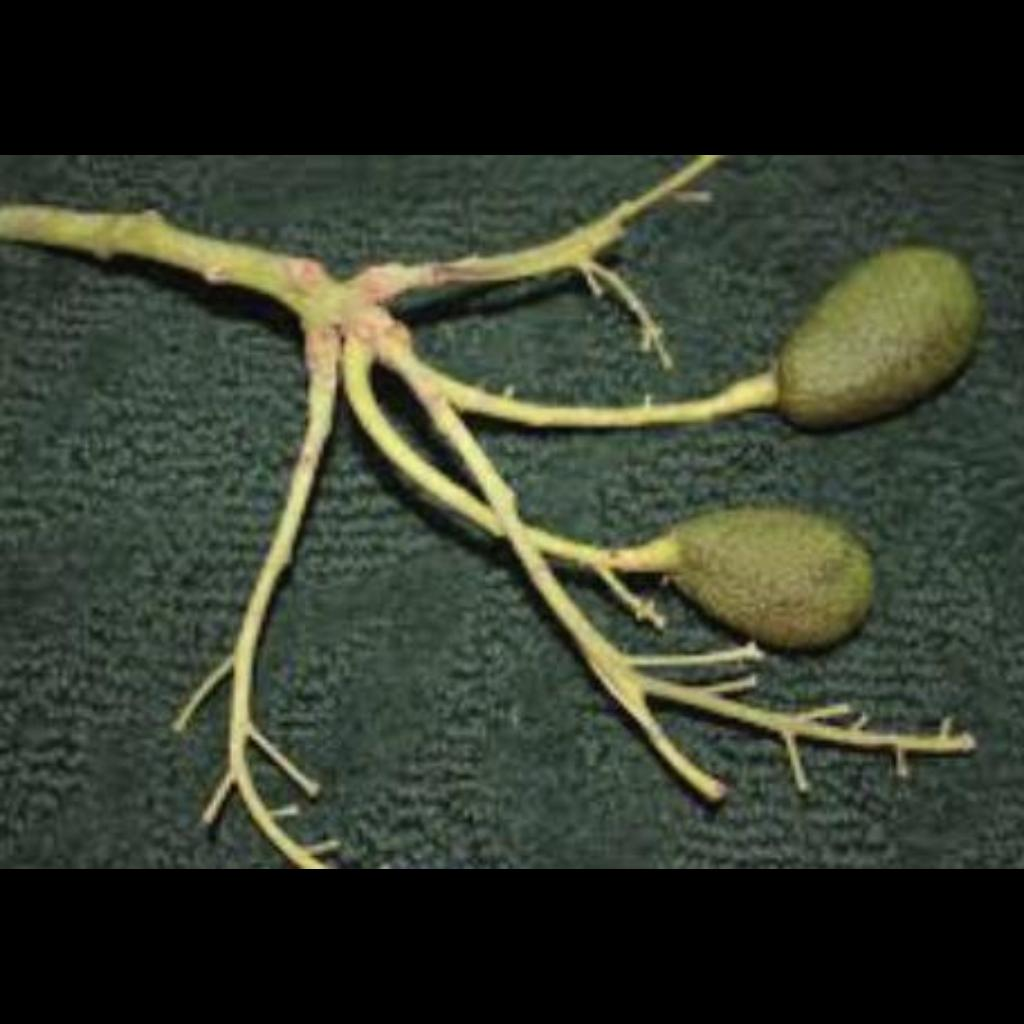fruto_sano: (650, 514, 890, 660), (786, 280, 977, 426)
